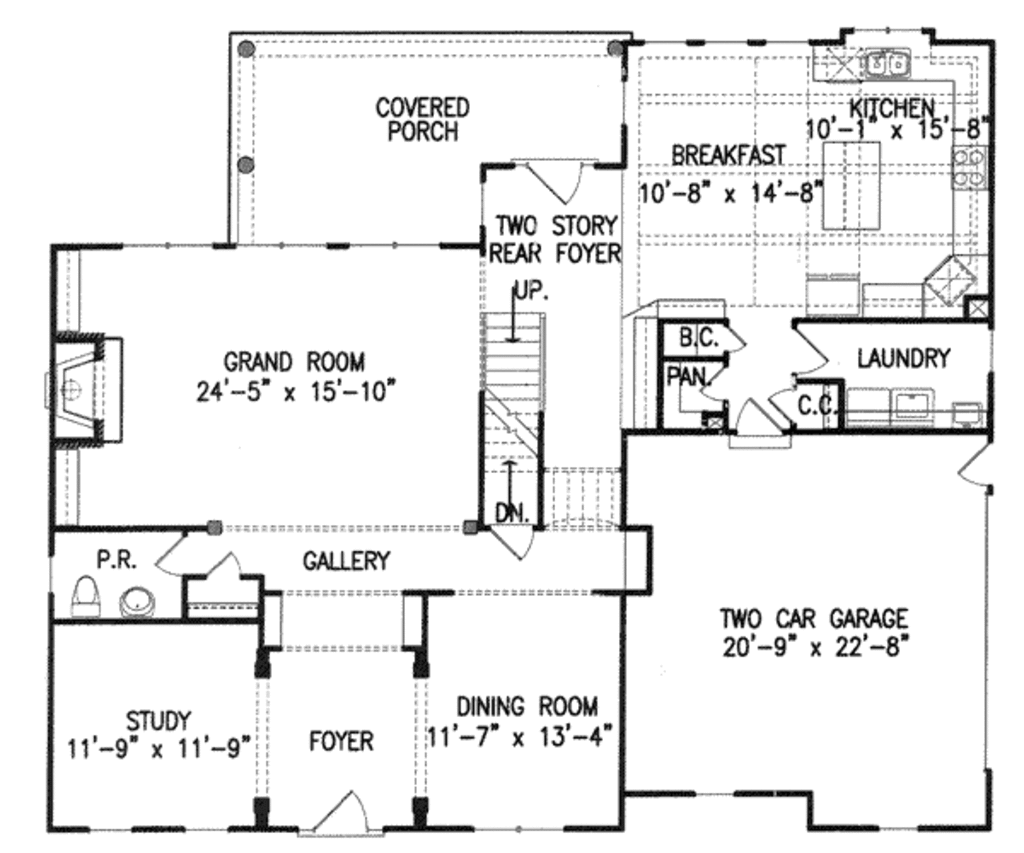door: (517, 152, 589, 202), (311, 785, 367, 837), (735, 393, 787, 446), (950, 439, 996, 495), (486, 522, 539, 563), (790, 324, 829, 378), (146, 532, 184, 578), (205, 554, 239, 582)
large_sink: (67, 569, 110, 630)
small_sink: (107, 576, 161, 621)
stairs: (484, 282, 630, 529)
twin_sink: (858, 49, 915, 80)
